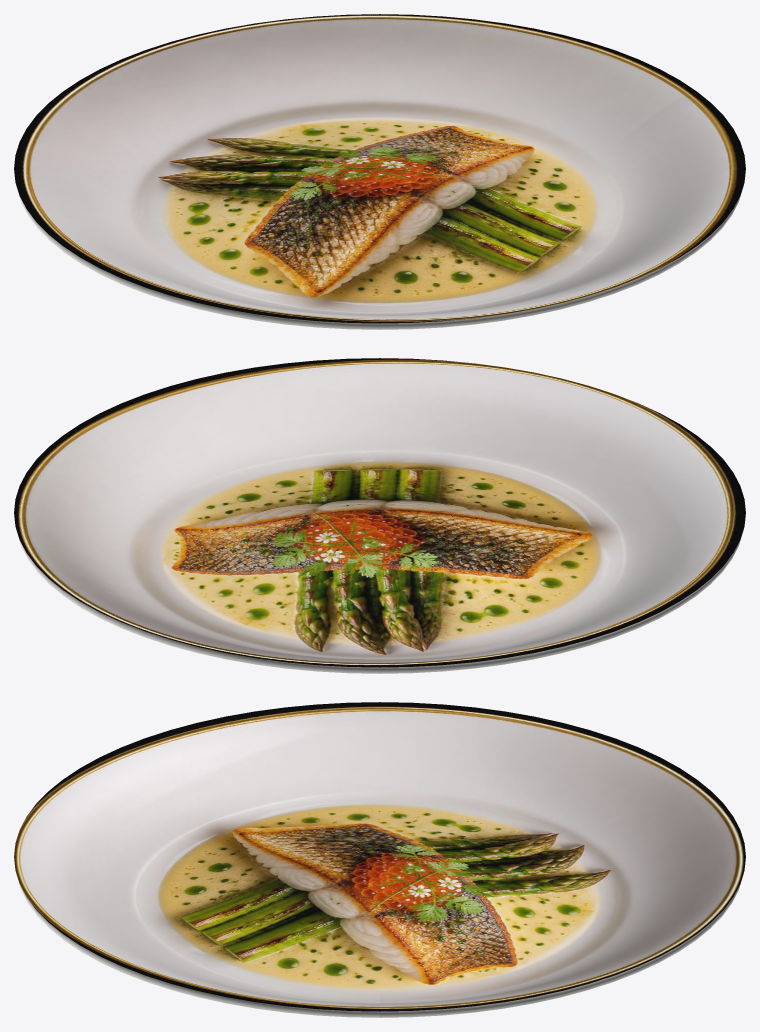
The model's file is robalo.glb.
The picture shows the model from 3 angles, top to bottom: view 1: azimuth 30°, elevation 25°; view 2: azimuth 150°, elevation 25°; view 3: azimuth 270°, elevation 25°; orthographic projection.
Visible parts, largest first — view 1: dish; view 2: dish; view 3: dish.
Boxes of the visible parts, <box> form: dish: <box>14,14,745,329</box>; dish: <box>14,358,745,673</box>; dish: <box>14,702,745,1017</box>.
Bounding box in the file's own units: 0.28 × 0.025 × 0.28.
Materials: 2 (1 with a texture image).
